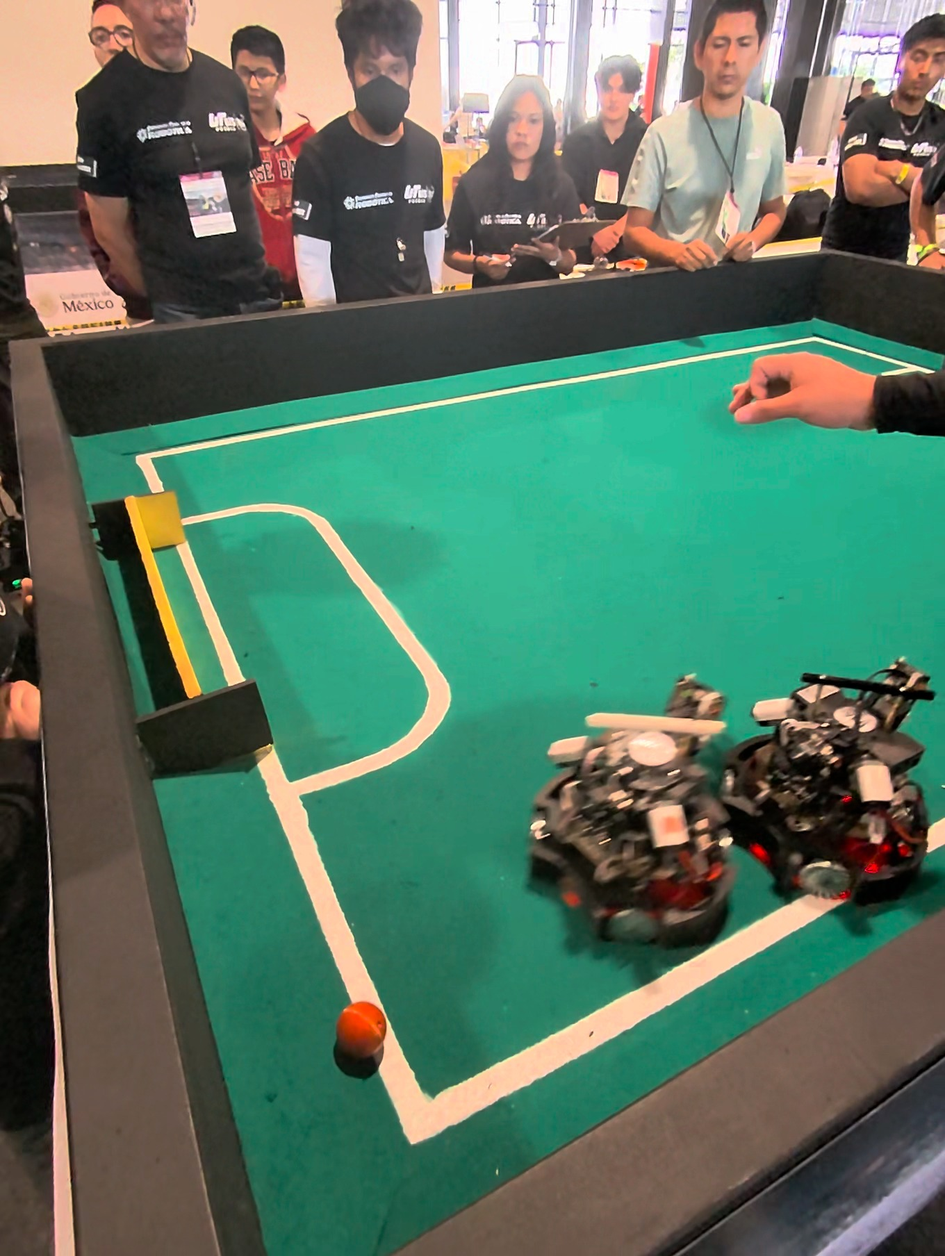Robot: (728, 643, 943, 910), (518, 701, 734, 960)
pelota: (333, 1005, 386, 1077)
